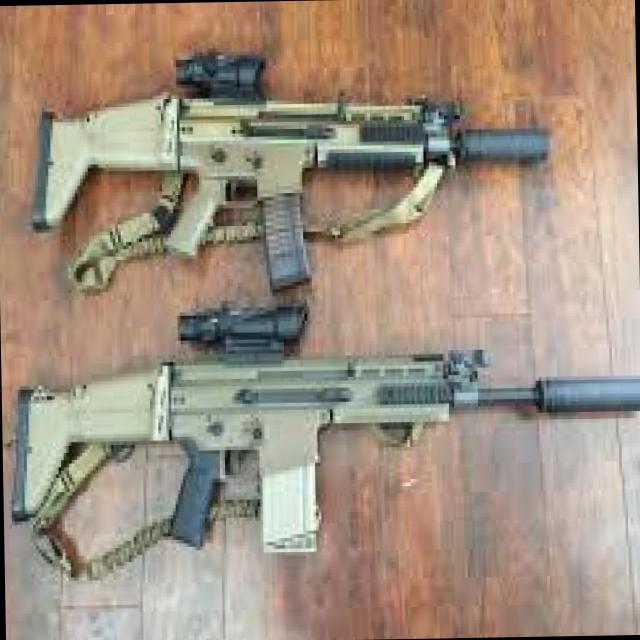Gun: (0, 307, 640, 556), (0, 53, 542, 308)
